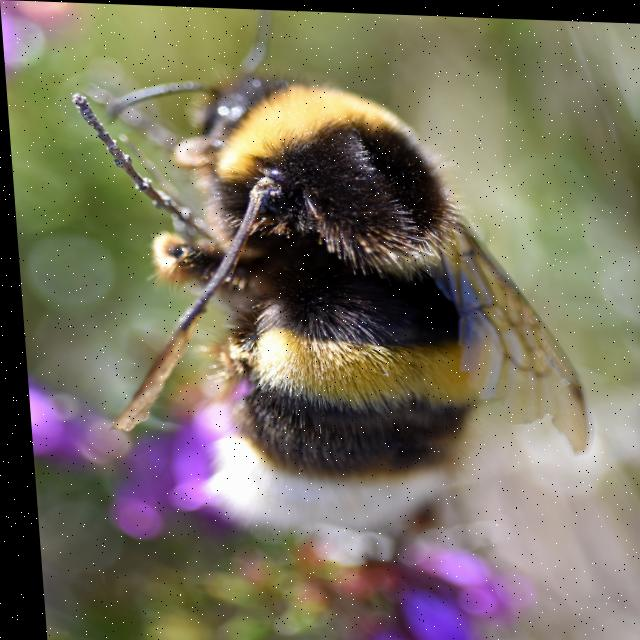Meliponula: (81, 20, 560, 502)
